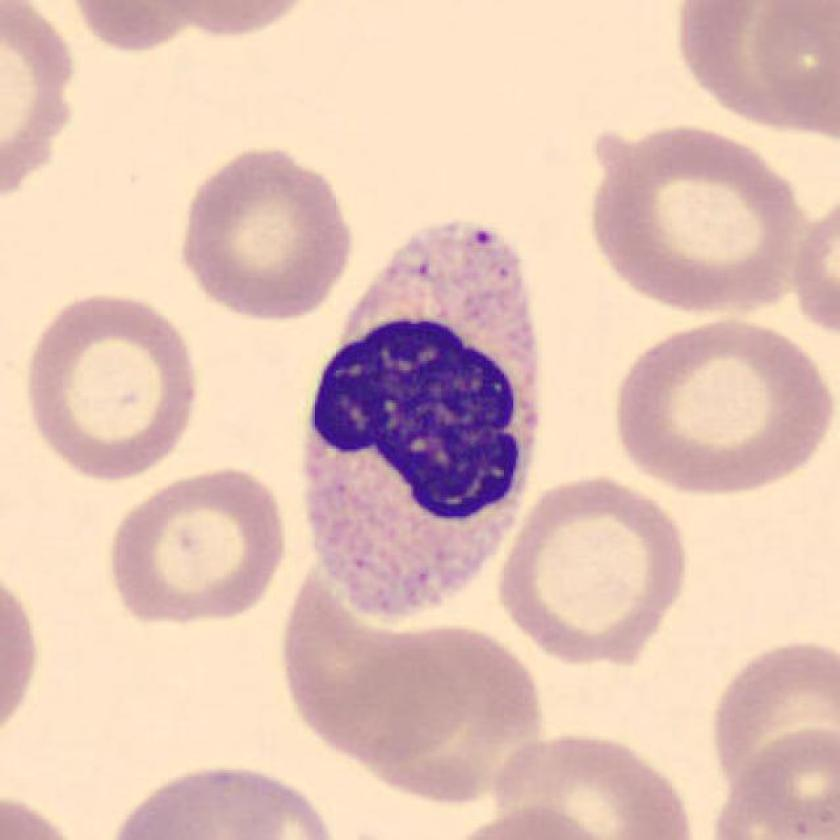neutrophil: (302, 227, 545, 619)
